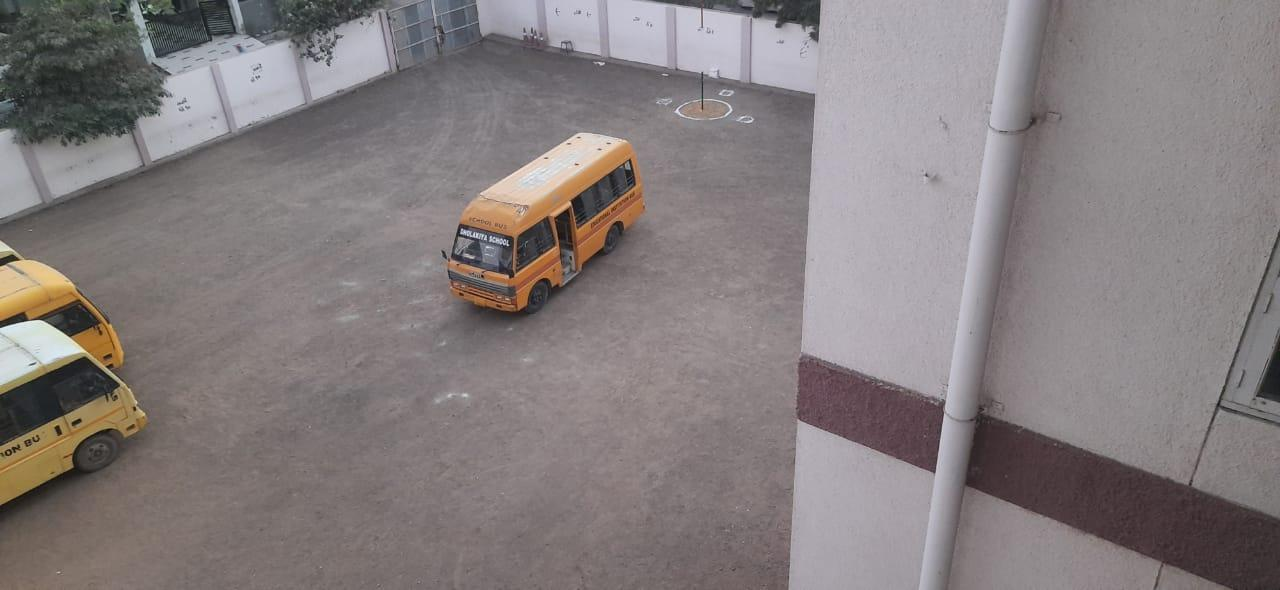Bus: (438, 117, 658, 338), (3, 321, 159, 495), (6, 245, 137, 377)
